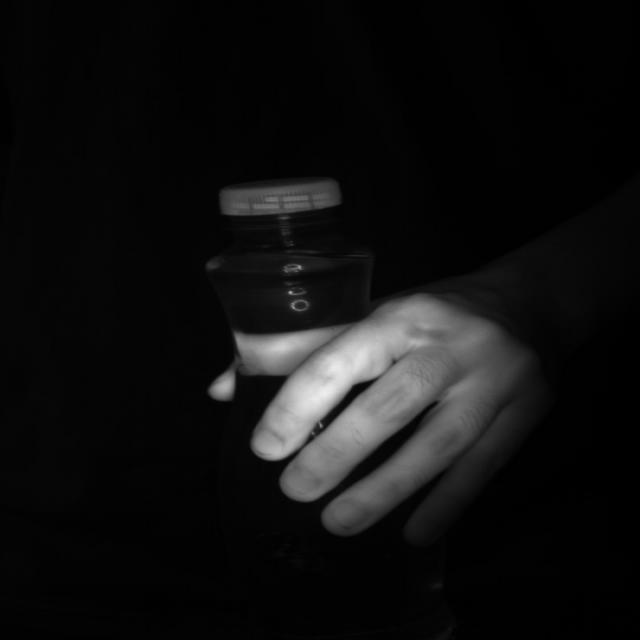Not Good: (218, 179, 341, 238)
